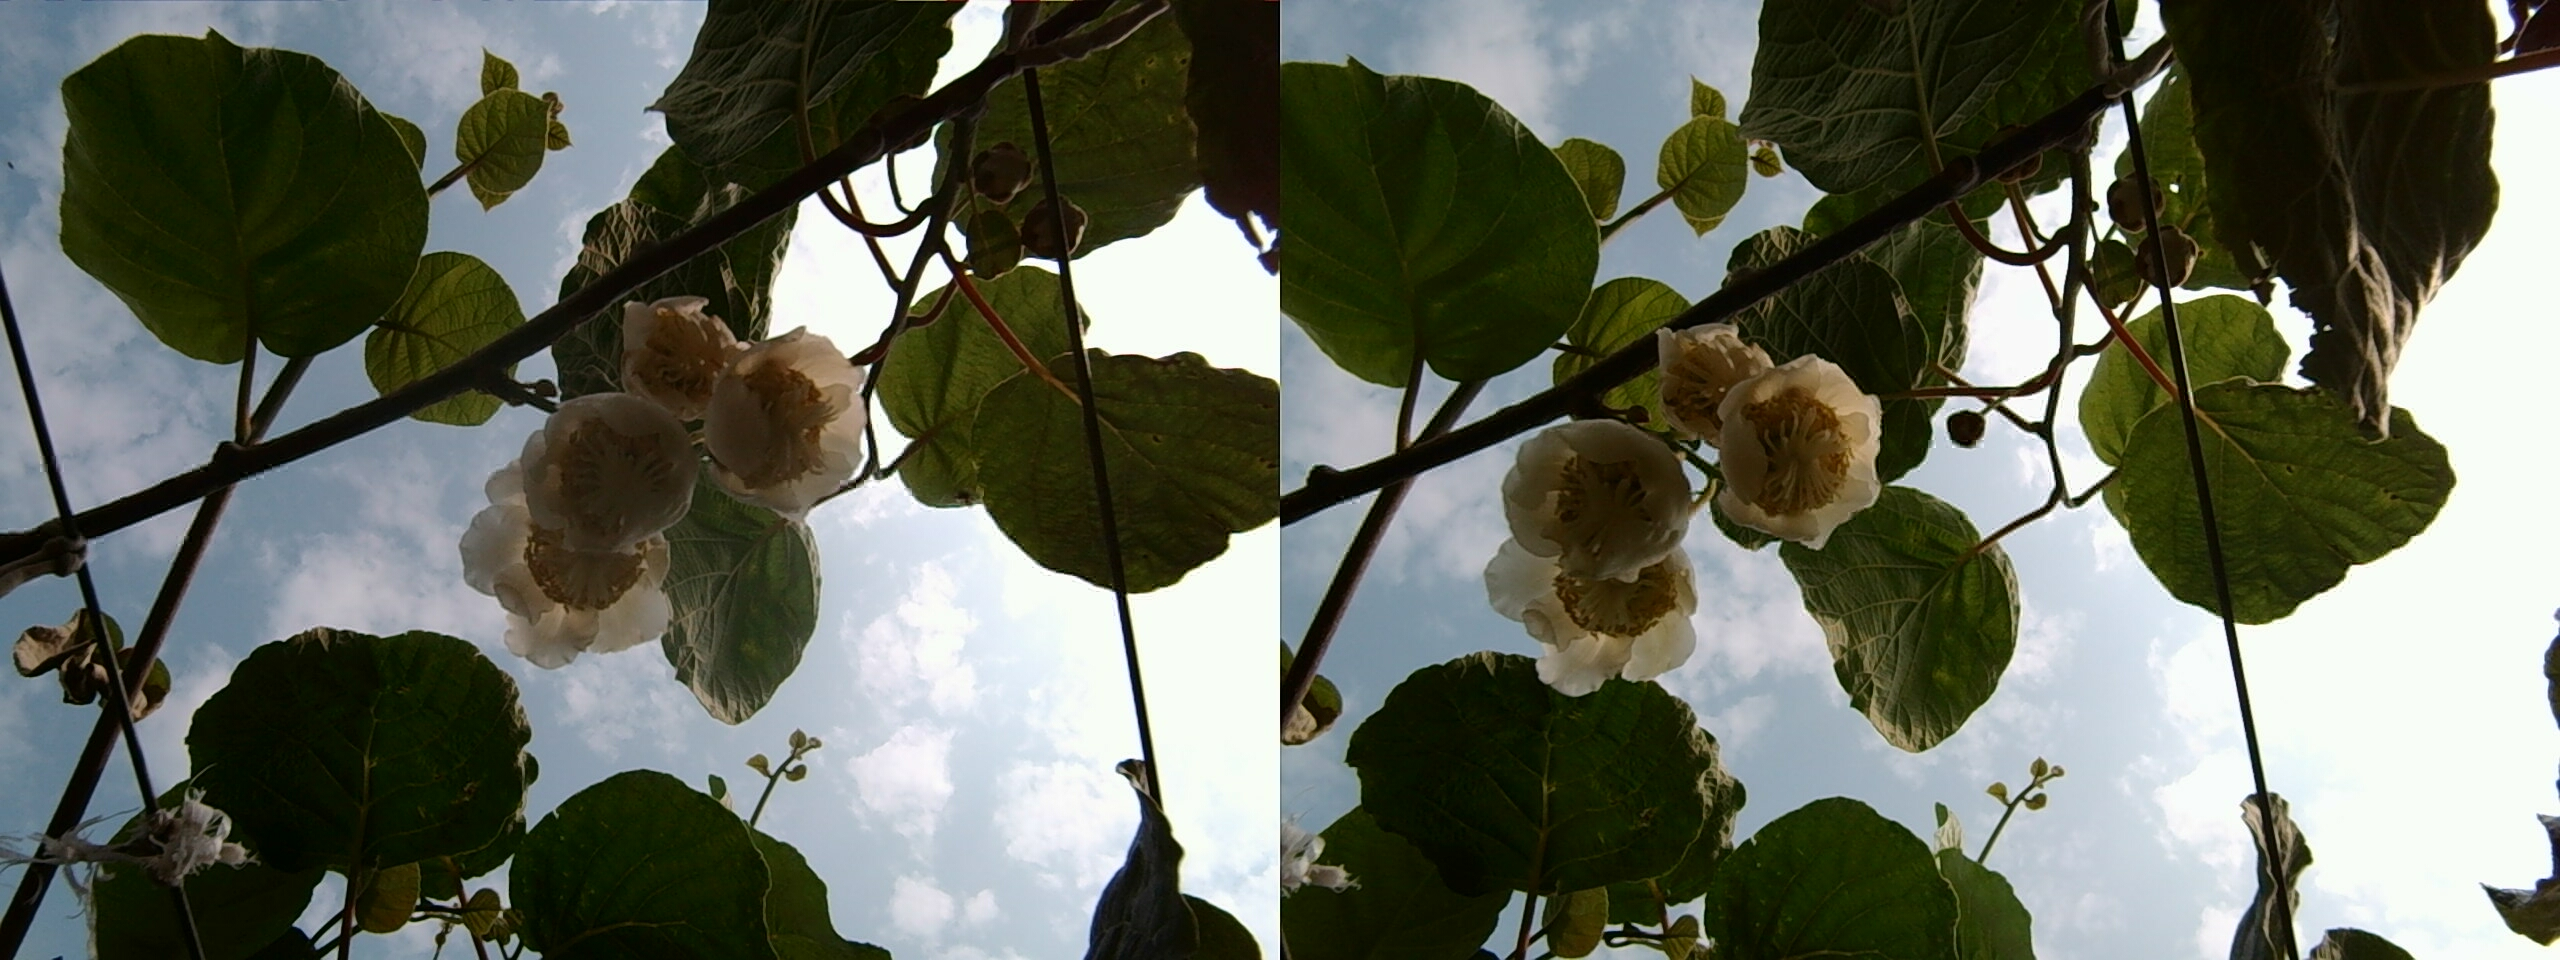flower: (1481, 407, 1711, 678), (456, 398, 691, 663), (1693, 338, 1894, 544), (696, 318, 873, 509), (625, 296, 749, 411), (1657, 327, 1771, 434)
